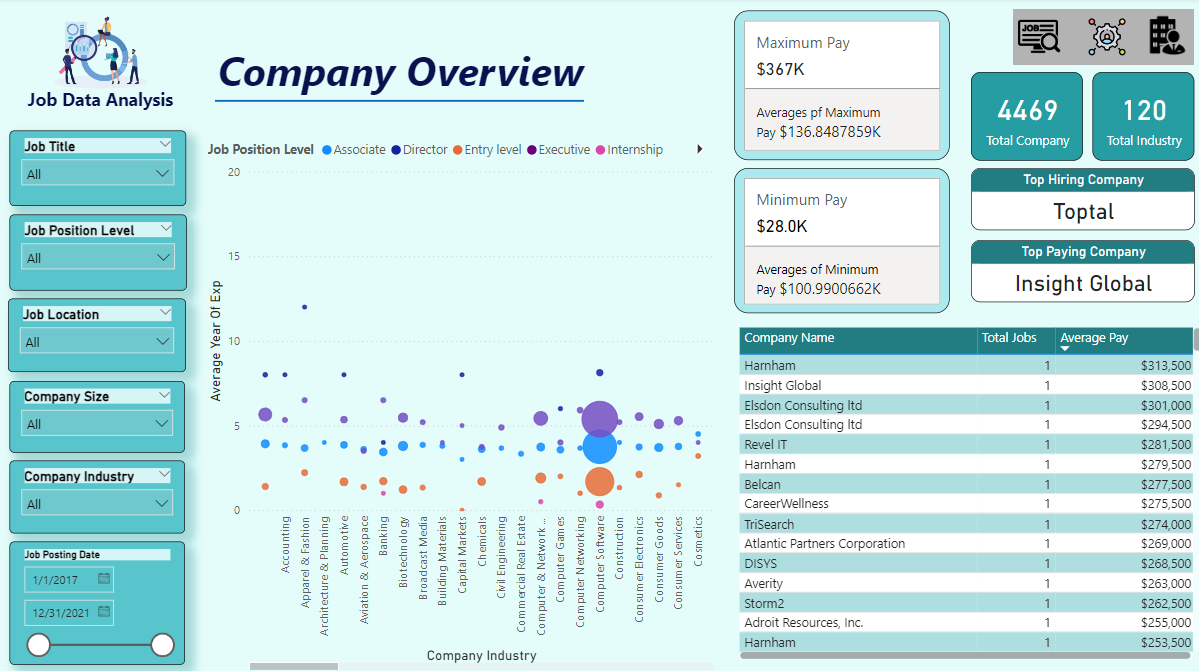

What the dashboard file says about the page in this screenshot:
{"tool":"powerbi","page":{"name":"Company ","canvas":[1280,720],"ordinal":2},"visuals":[{"type":"image","box":[0,0,215.5,109.1],"z":0,"group":"g5"},{"type":"image","box":[1075.9,12.8,54.9,58.6],"z":0,"group":"g1"},{"type":"tableEx","fields":{"Values":["job_postings.Company Name","_Measures.Posting Count","job_postings.Average Pay"]},"box":[779.3,344.5,500.7,362.5],"z":0},{"type":"image","box":[1151,15.5,49.4,52.2],"z":1000,"group":"g1"},{"type":"textbox","box":[14.2,90.4,186.2,39],"z":1000,"group":"g5"},{"type":"scatterChart","fields":{"X":["job_postings.Company Industry"],"Y":["_Measures.Average Year Of Exp"],"Series":["job_postings.Job Position Level"],"Size":["_Measures.Posting Count"]},"box":[215.8,141.4,546.4,577.3],"z":1000},{"type":"image","box":[1211.4,12.8,57.7,55.9],"z":2000,"group":"g1"},{"type":"cardVisual","fields":{"Data":["Min(job_postings.Minimum Pay)"]},"box":[779.3,180.7,228.6,154.2],"z":2000},{"type":"group","id":"g1","title":"Group 2","box":[1075.9,12.8,192.4,58.5],"z":3000},{"type":"group","id":"g2","title":"Group 5","box":[0,0,215.5,706.7],"z":4000},{"type":"cardVisual","fields":{"Data":["Max(job_postings.Maximum Pay)"]},"box":[779.3,13.8,228.6,158.4],"z":5000},{"type":"textbox","box":[213.7,43.6,425.6,70],"z":5000,"group":"g3"},{"type":"group","id":"g3","title":"Group 4","box":[213.7,43.6,425.2,88.2],"z":6000},{"type":"shape","box":[229.6,90,391.3,42.1],"z":6000,"group":"g3"},{"type":"group","id":"g4","title":"Group 1","box":[8.9,141,189,565.7],"z":6000,"group":"g2"},{"type":"card","fields":{"Values":["Count(job_postings.Company Name)"]},"box":[1030.3,78.9,118.8,94],"z":7000},{"type":"slicer","fields":{"Values":["job_postings.Job Title"]},"box":[9.9,141,187.1,79.8],"z":7500,"group":"g4"},{"type":"slicer","fields":{"Values":["job_postings.Job Position Level"]},"box":[9.9,229.7,188,80.7],"z":7750,"group":"g4"},{"type":"slicer","fields":{"Values":["job_postings.Job Location"]},"box":[8.9,319.2,188.9,78],"z":7875,"group":"g4"},{"type":"slicer","fields":{"Values":["job_postings.Company Size"]},"box":[9.8,407,186.2,76.3],"z":7937,"group":"g4"},{"type":"slicer","fields":{"Values":["job_postings.Company Industry"]},"box":[9.8,491.2,186.2,77.1],"z":7968,"group":"g4"},{"type":"slicer","fields":{"Values":["job_postings.Job Posting Date"]},"box":[10.8,576.4,186.2,130.3],"z":7984,"group":"g4"},{"type":"card","title":"Top Hiring Company","fields":{"Values":["Min(job_postings.Company Name)"]},"box":[1030.1,181.3,237.6,66.1],"z":8000},{"type":"card","fields":{"Values":["Count(job_postings.Company Industry)"]},"box":[1159.8,78.9,108.2,94],"z":9000},{"type":"card","title":"Top Paying Company","fields":{"Values":["Min(job_postings.Company Name)"]},"box":[1030.1,257.2,237.6,66.1],"z":10000},{"type":"group","id":"g5","title":"Group 3","box":[0,0,215.5,129.5],"z":10003,"group":"g2"}]}

Visuals, with their boxes in screenshot pixels (x1, y1, x2, y2), scaled from the page's 1280x720 canvas onto the 1199x671 screenshot:
image: [x1=0, y1=0, x2=202, y2=102]
image: [x1=1008, y1=12, x2=1059, y2=67]
tableEx - job_postings.Company Name x _Measures.Posting Count: [x1=730, y1=321, x2=1198, y2=659]
image: [x1=1078, y1=14, x2=1124, y2=63]
textbox: [x1=13, y1=84, x2=188, y2=121]
scatterChart - job_postings.Company Industry x _Measures.Average Year Of Exp: [x1=202, y1=132, x2=714, y2=670]
image: [x1=1135, y1=12, x2=1189, y2=64]
cardVisual - Min(job_postings.Minimum Pay): [x1=730, y1=168, x2=944, y2=312]
"Group 2" group: [x1=1008, y1=12, x2=1188, y2=66]
"Group 5" group: [x1=0, y1=0, x2=202, y2=659]
cardVisual - Max(job_postings.Maximum Pay): [x1=730, y1=13, x2=944, y2=160]
textbox: [x1=200, y1=41, x2=599, y2=106]
"Group 4" group: [x1=200, y1=41, x2=598, y2=123]
shape: [x1=215, y1=84, x2=582, y2=123]
"Group 1" group: [x1=8, y1=131, x2=185, y2=659]
card - Count(job_postings.Company Name): [x1=965, y1=74, x2=1076, y2=161]
slicer - job_postings.Job Title: [x1=9, y1=131, x2=185, y2=206]
slicer - job_postings.Job Position Level: [x1=9, y1=214, x2=185, y2=289]
slicer - job_postings.Job Location: [x1=8, y1=297, x2=185, y2=370]
slicer - job_postings.Company Size: [x1=9, y1=379, x2=184, y2=450]
slicer - job_postings.Company Industry: [x1=9, y1=458, x2=184, y2=530]
slicer - job_postings.Job Posting Date: [x1=10, y1=537, x2=185, y2=659]
"Top Hiring Company" card: [x1=965, y1=169, x2=1187, y2=231]
card - Count(job_postings.Company Industry): [x1=1086, y1=74, x2=1188, y2=161]
"Top Paying Company" card: [x1=965, y1=240, x2=1187, y2=301]
"Group 3" group: [x1=0, y1=0, x2=202, y2=121]
